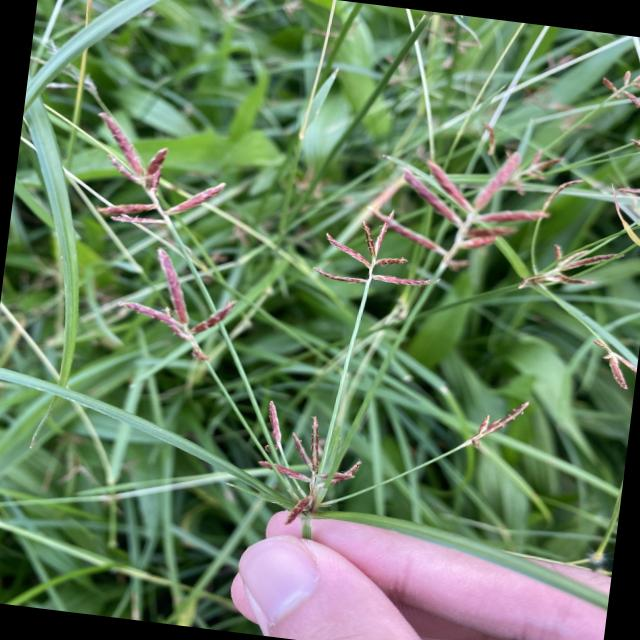cyperus: (230, 356, 544, 563), (50, 105, 258, 397), (494, 50, 640, 396), (376, 98, 580, 288), (208, 392, 384, 542), (303, 199, 447, 324)
